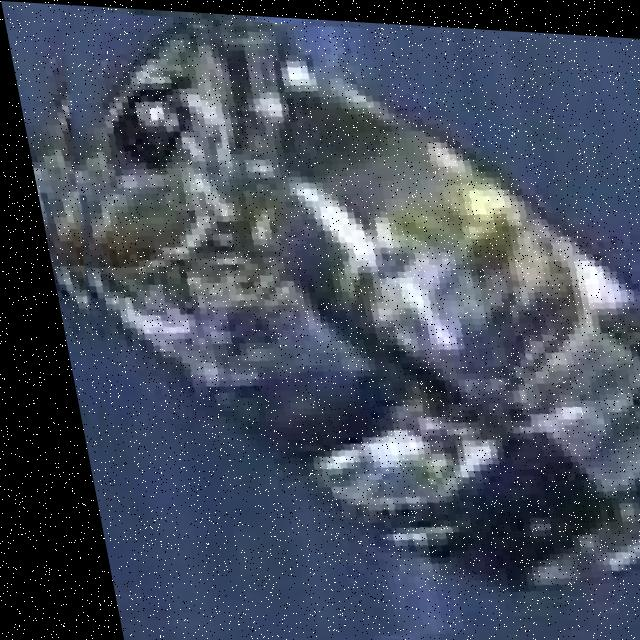can: (51, 19, 640, 621)
